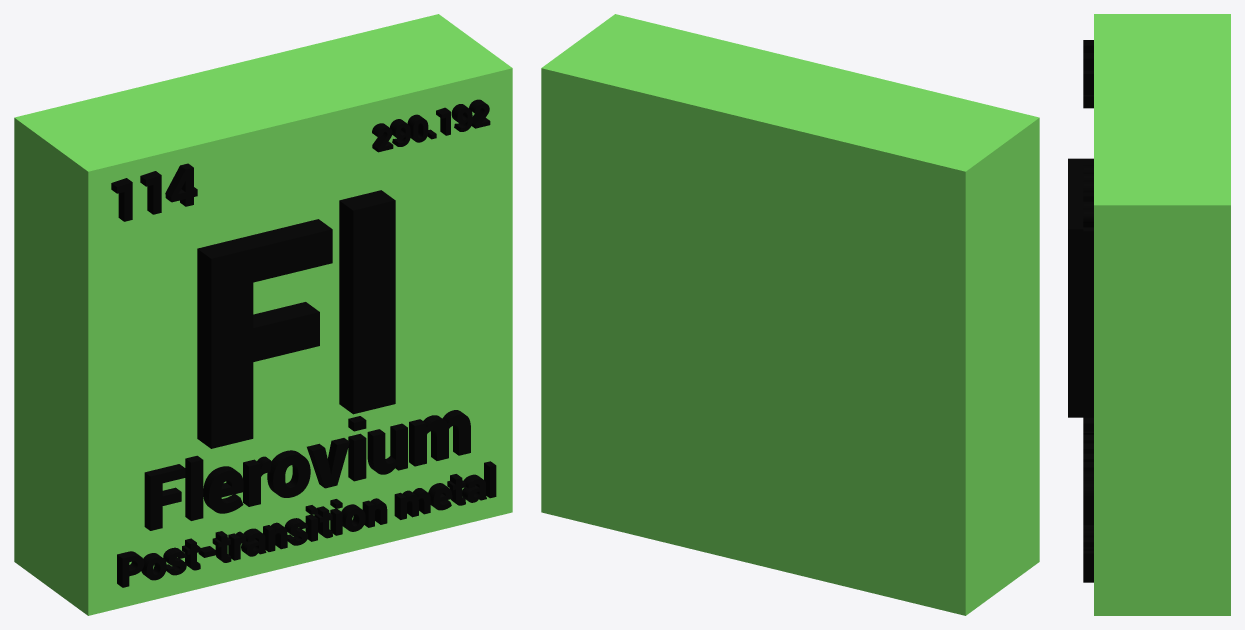
3 renders of one model, left to right at view 1: azimuth 30°, elevation 25°; view 2: azimuth 150°, elevation 25°; view 3: azimuth 270°, elevation 25°, orthographic. The views are drawn at different scales.
Parts seen in each view (by area): view 1: Cube, Text, Text.001, Text.002, Text.004, Text.003; view 2: Cube; view 3: Cube, Text, Text.001, Text.004, Text.003, Text.002.
Part boxes in pixels (x1,y1,x2,y2): Cube: [14, 14, 512, 615]; Text: [197, 190, 395, 448]; Text.001: [144, 410, 470, 530]; Text.002: [117, 461, 496, 587]; Text.004: [372, 99, 490, 152]; Text.003: [111, 163, 197, 221]; Cube: [541, 14, 1039, 615]; Cube: [1094, 14, 1230, 615]; Text: [1068, 158, 1093, 417]; Text.001: [1083, 417, 1093, 524]; Text.004: [1083, 165, 1093, 234]; Text.003: [1083, 40, 1093, 108]; Text.002: [1083, 525, 1093, 582].
Size of the model in its own units: 178 by 178 by 63.95.
